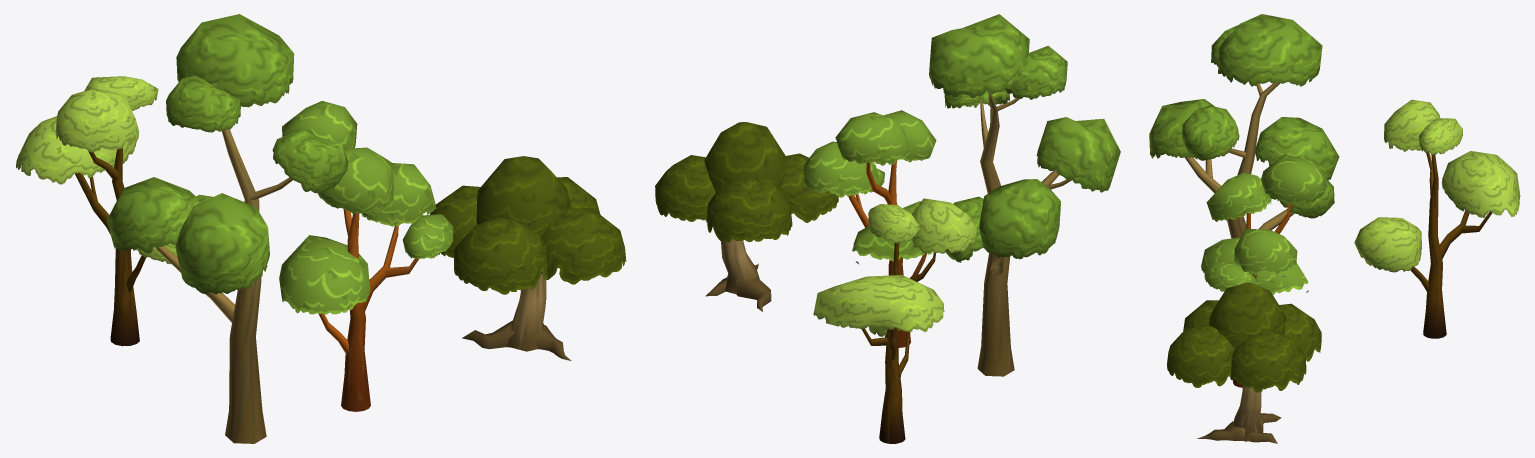
The model's file is arvores_mod.fbx.
3 views of the same model, side by side, from view 1: azimuth 30°, elevation 25°; view 2: azimuth 150°, elevation 25°; view 3: azimuth 270°, elevation 25° (orthographic). The views are drawn at different scales.
Visible parts, largest first — view 1: tree2, tree4, tree1, tree3; view 2: tree2, tree4, tree3, tree1; view 3: tree2, tree4, tree3, tree1.
Boxes of the visible parts, <box> form: tree2: <box>106,14,348,443</box>; tree4: <box>430,156,626,360</box>; tree1: <box>279,101,453,411</box>; tree3: <box>16,76,177,346</box>; tree2: <box>929,14,1120,376</box>; tree4: <box>655,122,838,311</box>; tree3: <box>813,198,976,443</box>; tree1: <box>803,110,936,347</box>; tree2: <box>1149,14,1339,238</box>; tree4: <box>1167,282,1321,443</box>; tree3: <box>1354,99,1520,338</box>; tree1: <box>1201,154,1327,387</box>.
Size of the model in its own units: 1172 by 965 by 1021.
